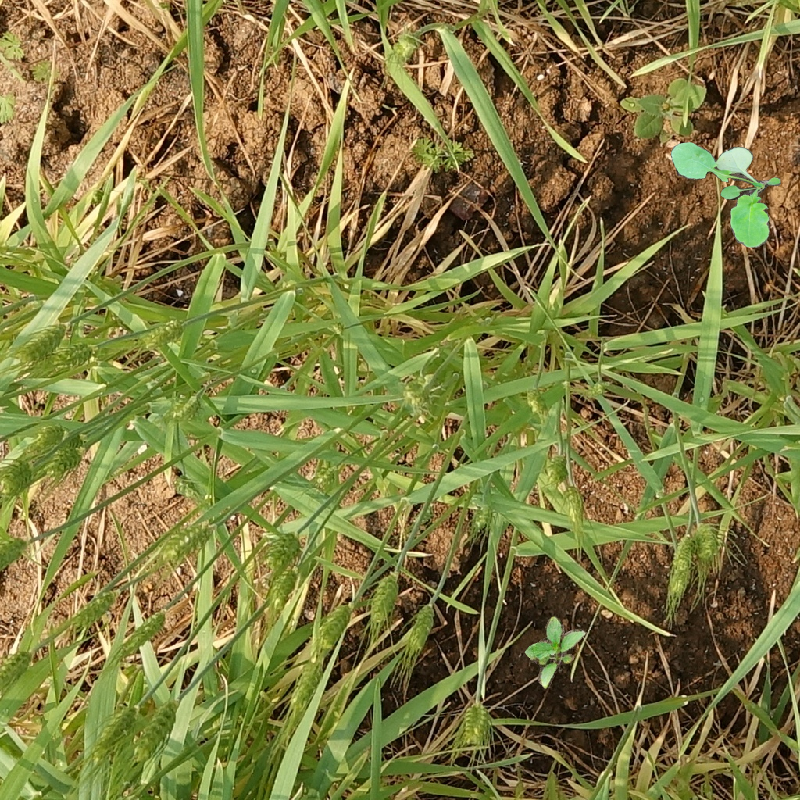spikelet: (132, 697, 180, 762), (87, 702, 137, 762), (122, 604, 169, 660), (293, 653, 328, 723), (156, 519, 214, 561), (14, 319, 67, 363), (403, 602, 438, 667), (68, 588, 117, 630), (313, 603, 352, 653), (666, 534, 694, 599), (1, 449, 38, 498), (367, 570, 400, 624), (458, 698, 491, 751), (399, 370, 439, 413), (138, 316, 186, 351), (44, 439, 86, 479), (262, 528, 302, 567), (1, 646, 33, 692), (52, 338, 98, 369), (538, 450, 570, 489), (270, 561, 300, 602), (175, 389, 211, 423), (692, 521, 720, 561)
weed: (671, 142, 781, 248), (619, 68, 707, 147), (1, 32, 58, 118), (524, 618, 592, 687), (411, 133, 473, 172)
